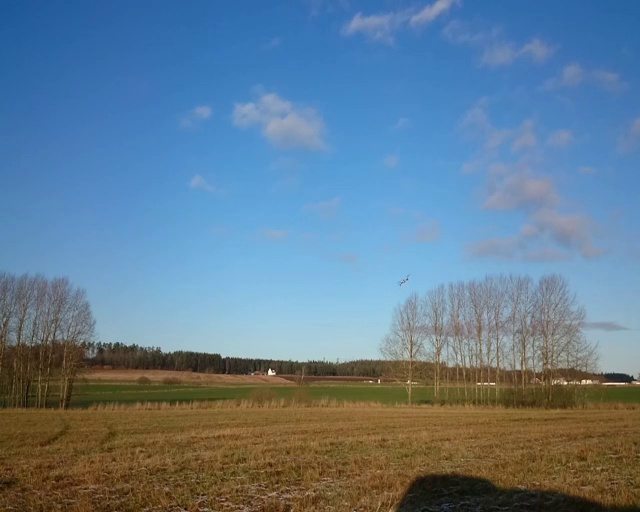DRONE: (398, 274, 410, 286)
